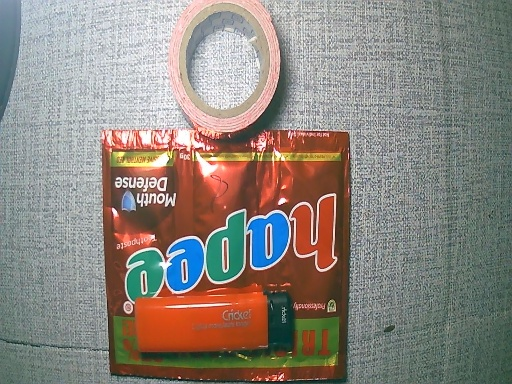plastic: (102, 129, 348, 384)
trash: (167, 1, 281, 140), (136, 290, 297, 355)
